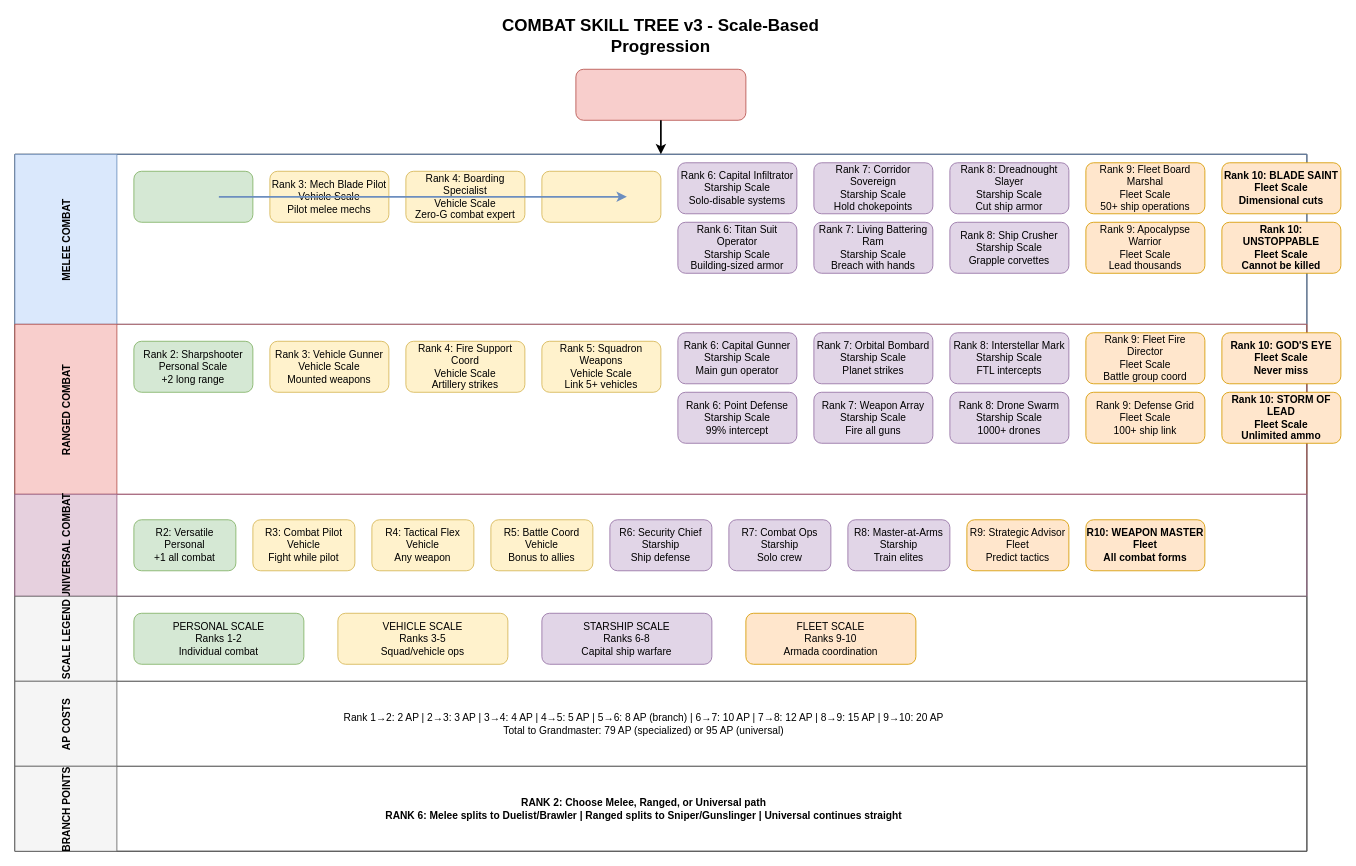
Some shapes in this 1356 by 866 pixel diagram are drawn without their labels. Each missing label, with the centre of its shape:
"COMBAT (Rank 1) Combat Training Basic proficiency" goes at (660,94).
"Rank 2: Blade Dancer Personal Scale +2 melee damage" goes at (193,196).
"Rank 5: Squad Breach Cmdr Vehicle Scale Lead assault teams" goes at (601,196).
